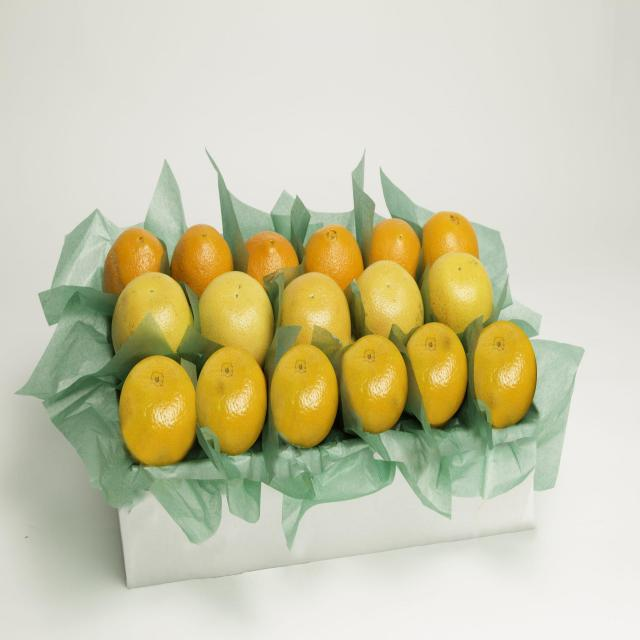10_tangerine: (172, 218, 237, 298), (414, 207, 481, 274), (105, 227, 167, 296), (303, 223, 364, 293), (238, 225, 295, 292), (366, 218, 421, 279)
